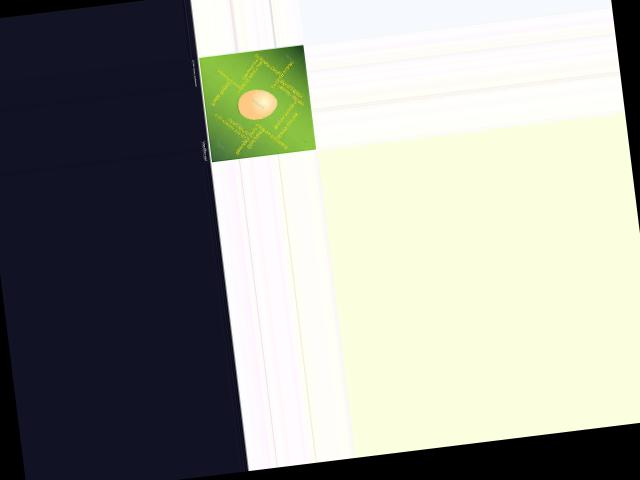egg: (236, 86, 278, 120)
